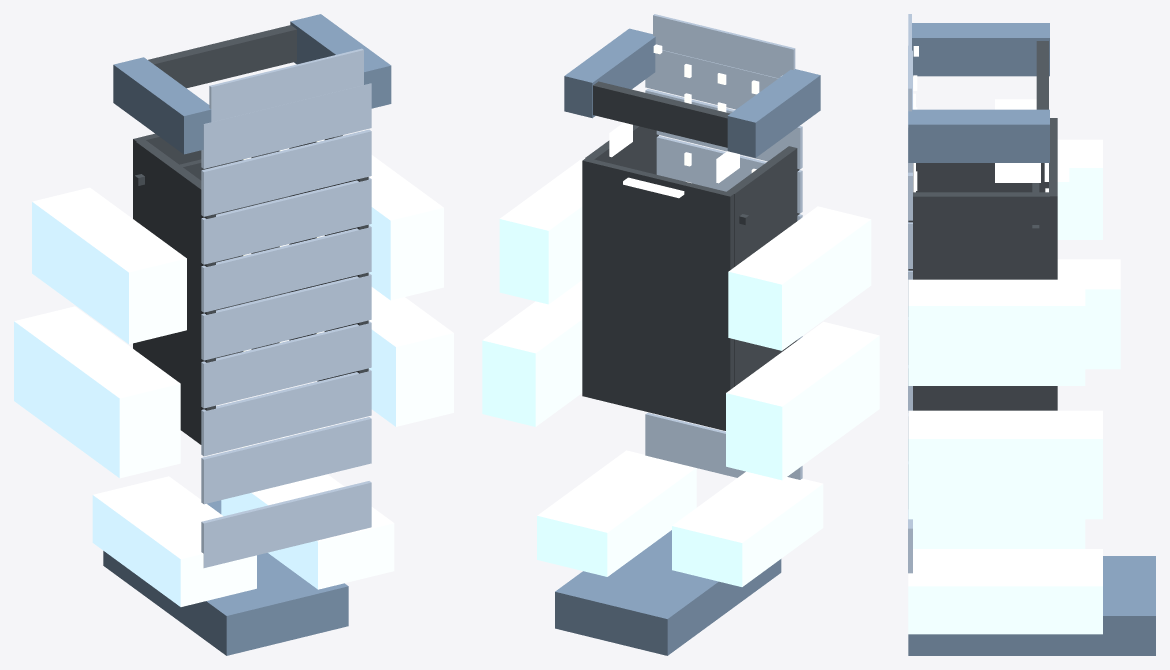
File: interact_finish_frame_rift.glb
3 views of the same model, side by side, from view 1: azimuth 30°, elevation 25°; view 2: azimuth 150°, elevation 25°; view 3: azimuth 270°, elevation 25° (orthographic). The views are drawn at different scales.
Visible parts, largest first — view 1: interact_finish_frame_rift; view 2: interact_finish_frame_rift; view 3: interact_finish_frame_rift.
Part boxes in pixels (bbox=[...]): interact_finish_frame_rift: bbox=[14, 14, 453, 655]; interact_finish_frame_rift: bbox=[482, 14, 879, 655]; interact_finish_frame_rift: bbox=[908, 14, 1155, 655].
Size of the model in its own units: 21.9 by 35.85 by 14.02.
